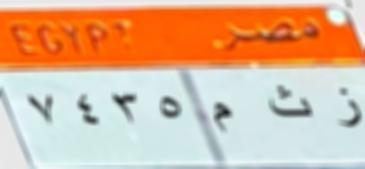3: (109, 82, 145, 133)
4: (70, 87, 102, 135)
5: (157, 91, 186, 129)
7: (24, 86, 63, 134)
meem: (209, 94, 235, 139)
thaa: (264, 79, 317, 131)
zay: (327, 79, 363, 138)
